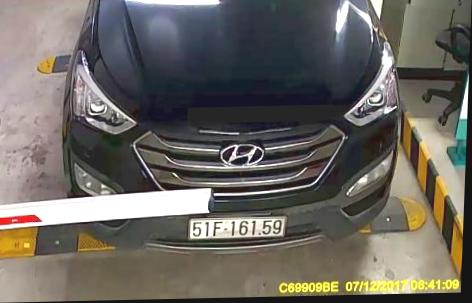License_Plate: (183, 216, 291, 244)
